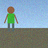person: (4, 6, 18, 31)
